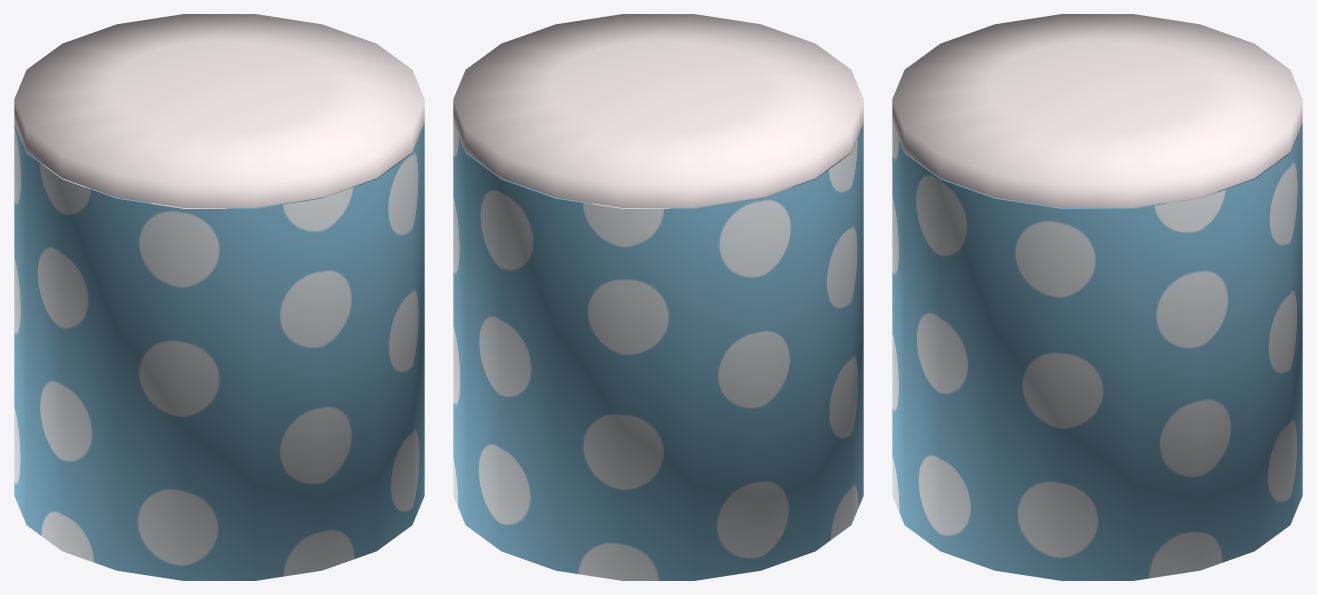
File: banka.fbx
3 renders of one model, left to right at view 1: azimuth 30°, elevation 25°; view 2: azimuth 150°, elevation 25°; view 3: azimuth 270°, elevation 25°, orthographic.
Parts seen in each view (by area): view 1: pot, cap; view 2: pot, cap; view 3: pot, cap.
Part boxes in pixels (x1,y1,x2,y2): pot: (14, 123, 424, 580); cap: (14, 14, 424, 207); pot: (453, 123, 863, 580); cap: (453, 14, 863, 207); pot: (892, 123, 1302, 580); cap: (892, 14, 1302, 207).
Size of the model in its own units: 197 by 224 by 200.
1 material, 1 textured.
